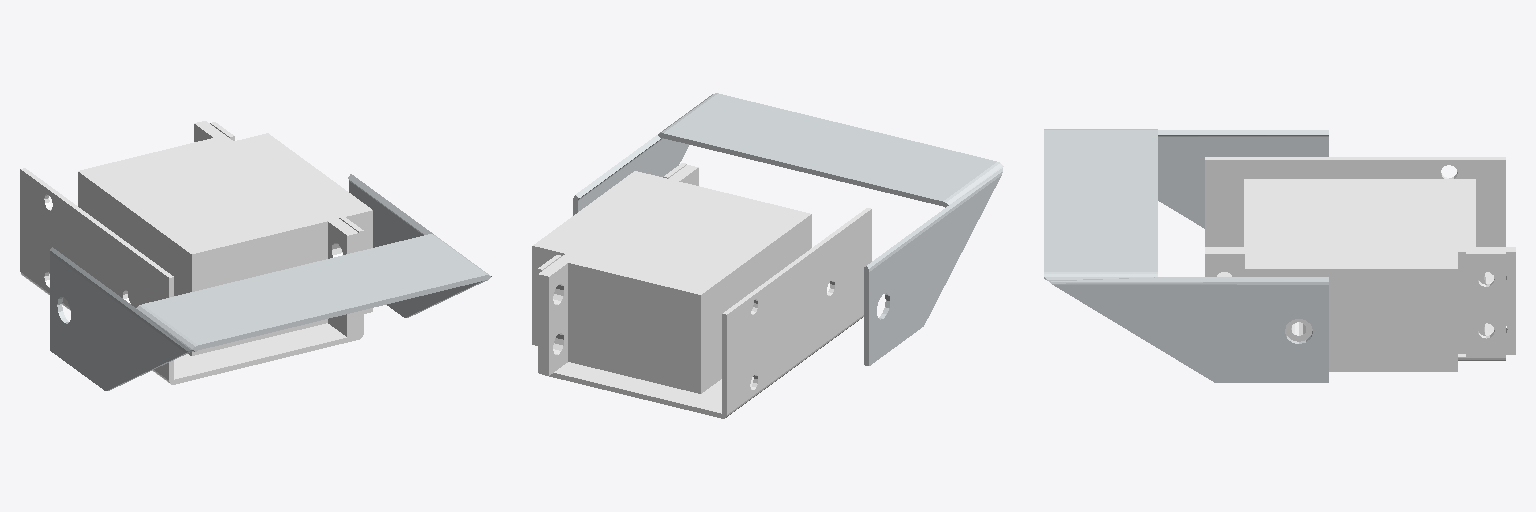
robot.urdf — foot_test:
<?xml version="1.0" encoding="utf-8"?>
<!-- This URDF was automatically created by SolidWorks to URDF Exporter! Originally created by [author] ([email redacted]) 
     Commit Version: 1.5.0-0-g9aa0fdb  Build Version: 1.5.7004.21443
     For more information, please see http://wiki.ros.org/sw_urdf_exporter -->
<robot
  name="foot_test">
  <link
    name="base_link">
    <inertial>
      <origin
        xyz="0.044249 0.021713 -0.018217"
        rpy="0 0 0" />
      <mass
        value="0.040648" />
      <inertia
        ixx="8.2828E-06"
        ixy="2.86E-07"
        ixz="-1.2442E-07"
        iyy="1.2413E-05"
        iyz="-2.3284E-09"
        izz="6.9622E-06" />
    </inertial>
    <visual>
      <origin
        xyz="0 0 0"
        rpy="0 0 0" />
      <geometry>
        <mesh
          filename="package://foot_test/meshes/base_link.STL" />
      </geometry>
      <material
        name="">
        <color
          rgba="1 1 1 1" />
      </material>
    </visual>
    <collision>
      <origin
        xyz="0 0 0"
        rpy="0 0 0" />
      <geometry>
        <mesh
          filename="package://foot_test/meshes/base_link.STL" />
      </geometry>
    </collision>
  </link>

  <link
    name="Foot">
    <inertial>
      <origin
        xyz="-0.031268 -0.023648 -0.0056268"
        rpy="0 0 0" />
      <mass
        value="0.007226" />
      <inertia
        ixx="1.6958E-06"
        ixy="9.9158E-13"
        ixz="-1.1975E-12"
        iyy="4.9266E-06"
        iyz="-4.2316E-07"
        izz="6.0987E-06" />
    </inertial>
    <visual>
      <origin
        xyz="0 0 0"
        rpy="0 0 0" />
      <geometry>
        <mesh
          filename="package://foot_test/meshes/Foot.STL" />
      </geometry>
      <material
        name="black">
        <color
          rgba="0.89804 0.91765 0.92941 1" />
      </material>
    </visual>
    <collision>
      <origin
        xyz="0 0 0"
        rpy="0 0 0" />
      <geometry>
        <mesh
          filename="package://foot_test/meshes/Foot.STL" />
      </geometry>
    </collision>
  </link>


  <joint
    name="joint1"
    type="revolute">
    <origin
      xyz="0.0076913 0.0078829 0.023225"
      rpy="3.1416 0 3.1416" />
    <parent
      link="base_link" />
    <child
      link="Foot" />
    <axis
      xyz="1 0 0" />
    <limit
      lower="0"
      upper="1.57"
      effort="0.16"
      velocity="1.2" />
    <dynamics
      friction = "0.12"/>
  </joint>

  <transmission name="base_to_foot">
    <type>transmission_interface/SimpleTransmission</type>
    <actuator name="base_to_foot_act">
      <mechanicalReduction>2</mechanicalReduction>
    </actuator>
    <joint name="joint1">
      <hardwareInterface>hardware_interface/EffortJointInterface</hardwareInterface>
    </joint>
  </transmission>
  <gazebo>
    <plugin name="gazebo_ros_control" filename="libgazebo_ros_control.so">
      <robotNamespace>/foot_test</robotNamespace>
    </plugin>
  </gazebo>
</robot>

--- Render facts (derived) ---
Views: 3 orthographic renders of the robot side by side, from view 1: azimuth 30°, elevation 25°; view 2: azimuth 150°, elevation 25°; view 3: azimuth 270°, elevation 25°.
Robot: foot_test — 2 links, 1 joints (1 revolute); root link base_link; default pose: all joints at 0.
Links seen in each view (by area): view 1: base_link, Foot; view 2: base_link, Foot; view 3: base_link, Foot.
Boxes of the visible links, left/top/right/bottom form: base_link: left=20, top=121, right=372, bottom=384; Foot: left=50, top=174, right=491, bottom=390; base_link: left=532, top=163, right=871, bottom=418; Foot: left=573, top=93, right=1003, bottom=365; base_link: left=1205, top=157, right=1515, bottom=371; Foot: left=1044, top=129, right=1328, bottom=382.
Size in the robot's own frame: 0.0625 by 0.0828 by 0.0218 metres.
Meshes: 2 distinct files referenced, 2 mesh visuals loaded (2 binary STL).